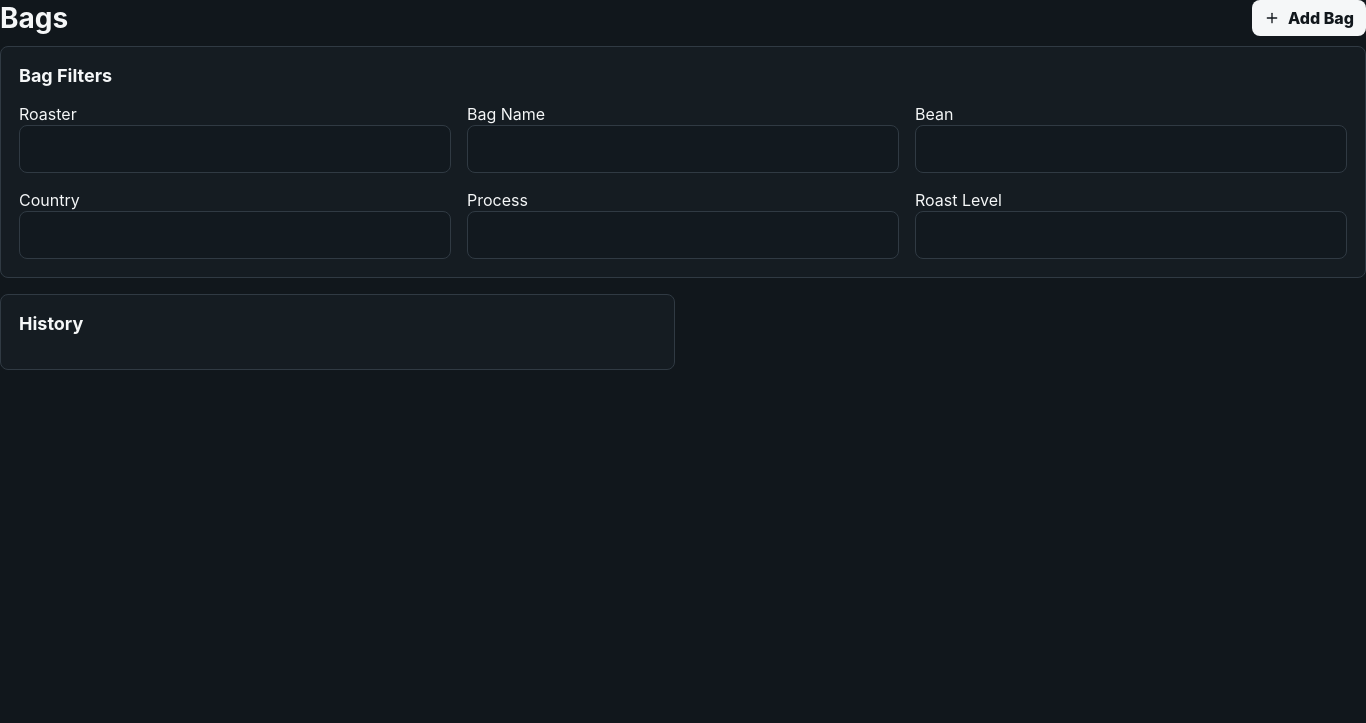
Test case: BagsPage › shows an inline validation message for invalid draft bags
What coordinates should you click on to do the following:
click the button "Add Bag"
I would click on:
 (1309, 18)
Its box is [1252,0,1365,36].
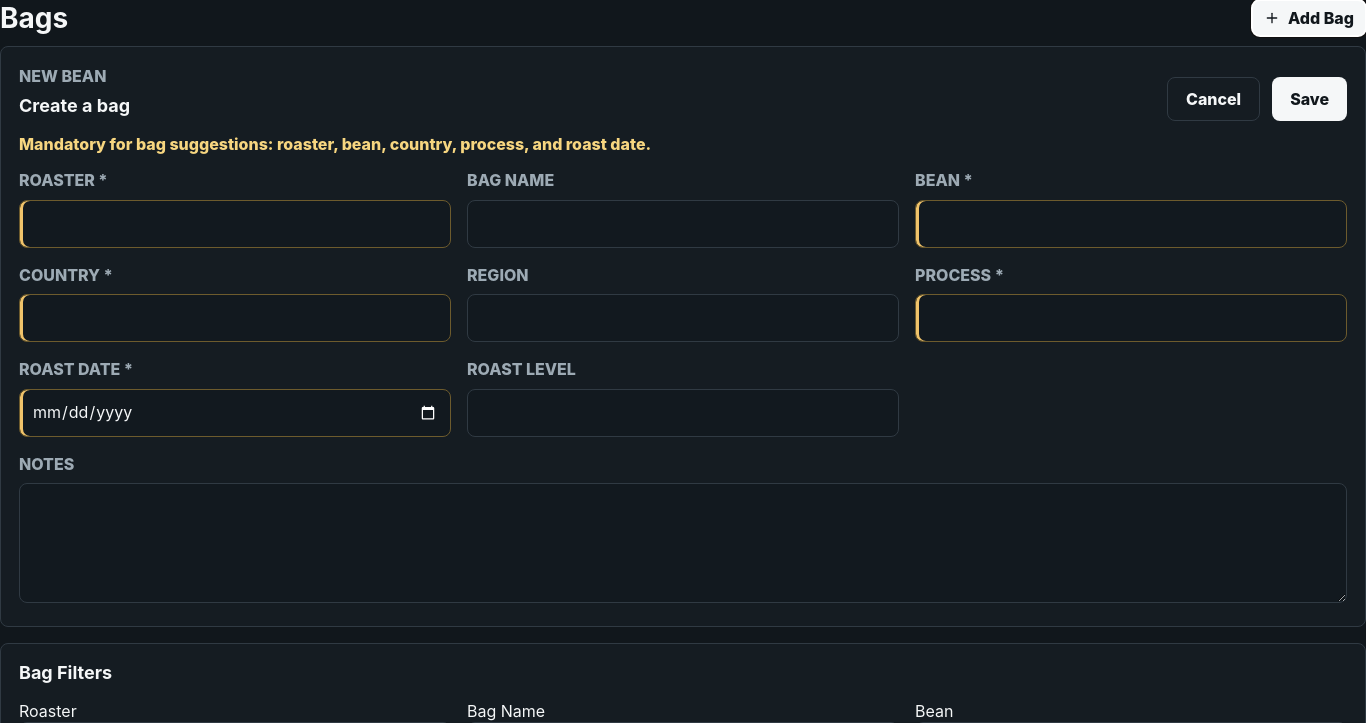
What coordinates should you click on to do the following:
click the button "Save"
I would click on:
 (1310, 99)
Its box is [1272,77,1347,121].
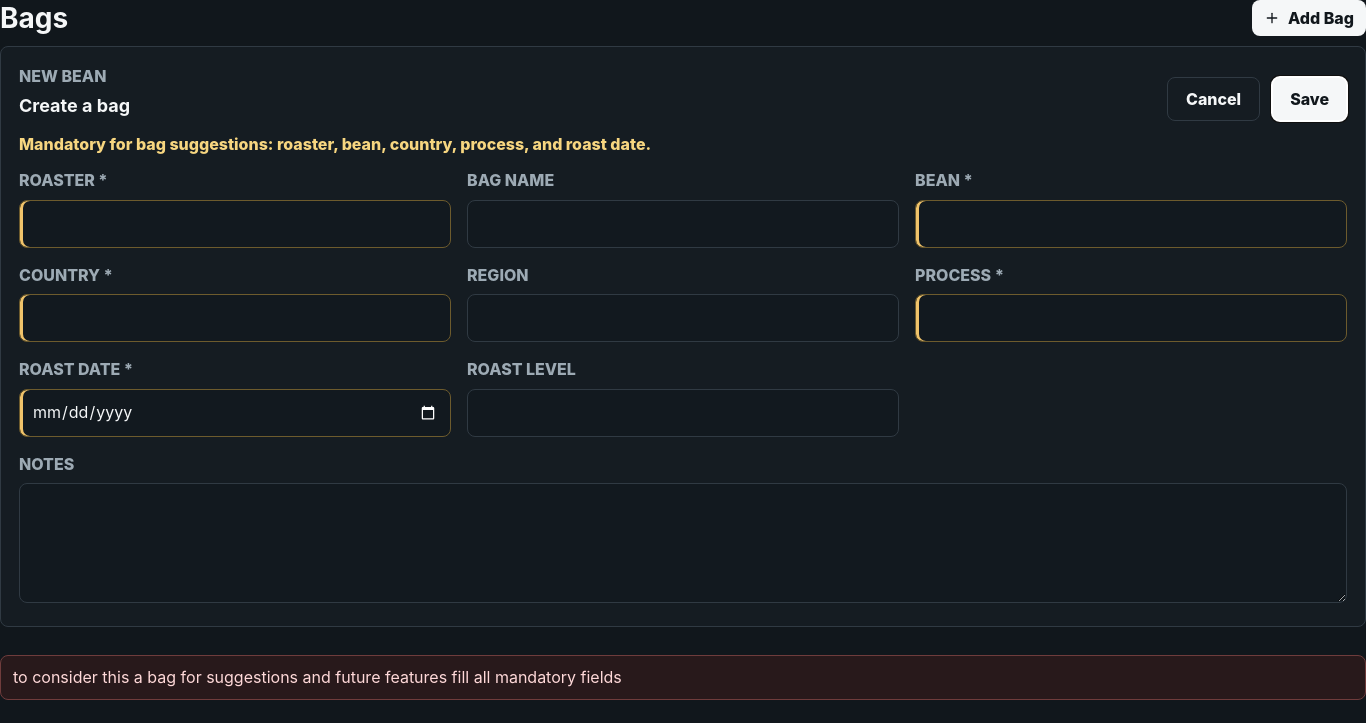
Expected: the text "Mandatory for bag suggestions: roaster, bean, country, process, and roast date." is shown, [19,134,651,154]
Expected: the message shows "to consider this a bag for suggestions and future features fill all mandatory fields", [13,667,622,687]
